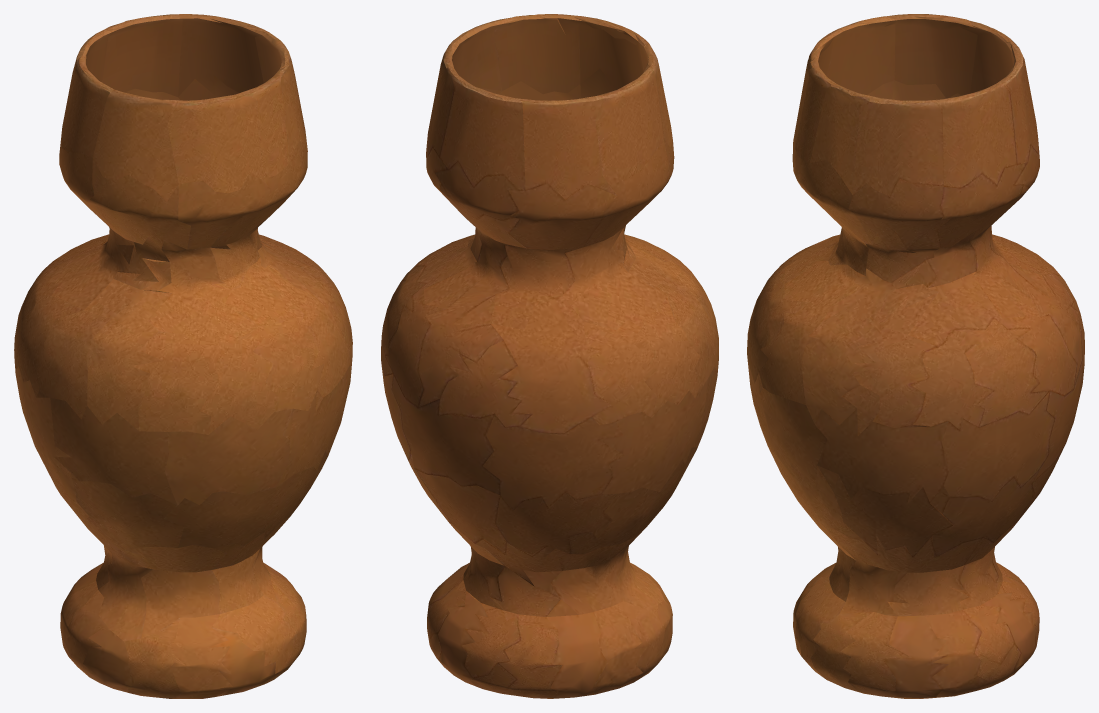
The model's file is jar.glb.
The picture shows the model from 3 angles, left to right: view 1: azimuth 30°, elevation 25°; view 2: azimuth 150°, elevation 25°; view 3: azimuth 270°, elevation 25°; orthographic projection.
Parts seen in each view (by area): view 1: mesh_node; view 2: mesh_node; view 3: mesh_node.
Boxes of the visible parts, left/top/right/bottom form: mesh_node: left=14, top=14, right=352, bottom=698; mesh_node: left=381, top=14, right=718, bottom=698; mesh_node: left=747, top=14, right=1084, bottom=698.
Size of the model in its own units: 0.9787 by 1.9 by 0.975.
1 material, 1 textured.
